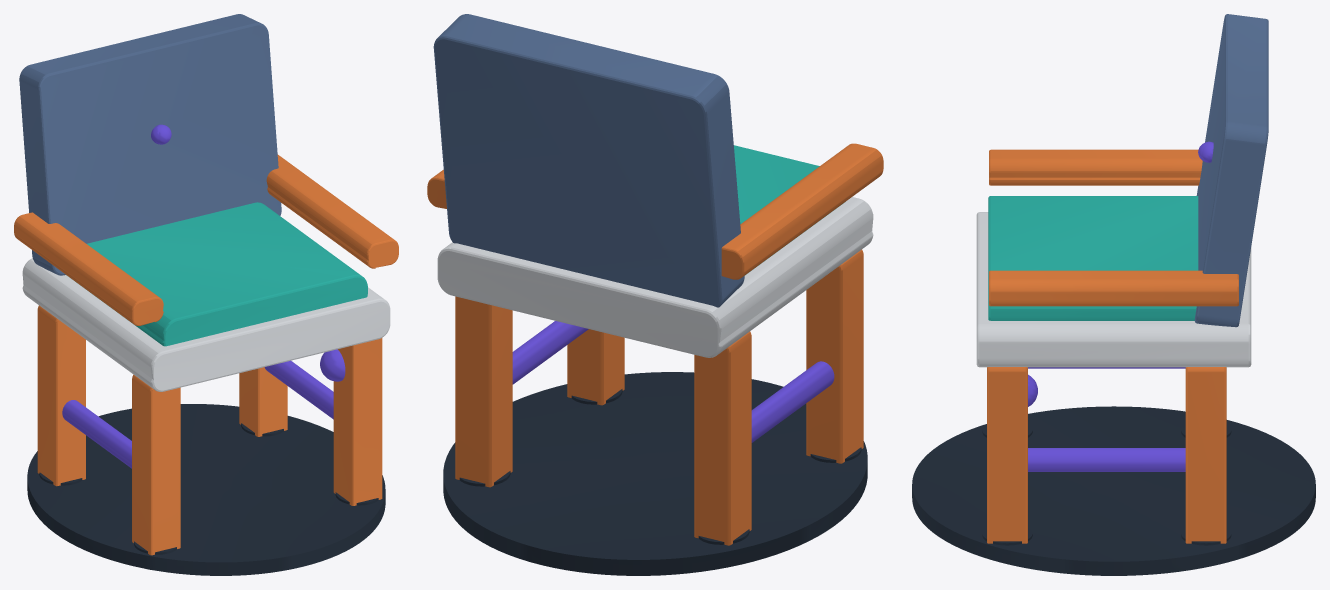
The model's file is 0948_农业科技图鉴_彩色肥料.glb.
3 views of the same model, side by side, from view 1: azimuth 30°, elevation 25°; view 2: azimuth 150°, elevation 25°; view 3: azimuth 270°, elevation 25° (orthographic). The views are drawn at different scales.
Visible parts, largest first — view 1: card_0948; view 2: card_0948; view 3: card_0948.
Part boxes in pixels (x1=…): card_0948: x1=14, y1=14, x2=398, y2=575; card_0948: x1=427, y1=14, x2=883, y2=575; card_0948: x1=912, y1=14, x2=1315, y2=575.
Bounding box in the file's own units: 0.7677 × 1 × 0.8433.
